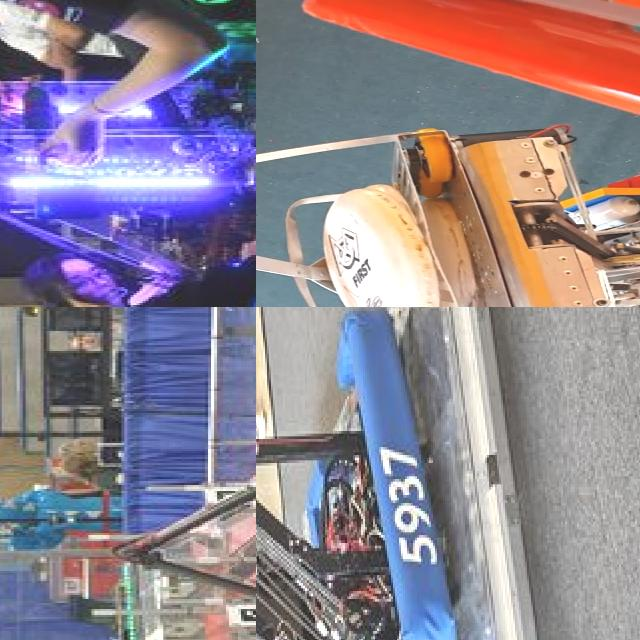FRC-Robots: (0, 307, 256, 640), (0, 0, 256, 307), (256, 121, 640, 307), (256, 307, 439, 640)
